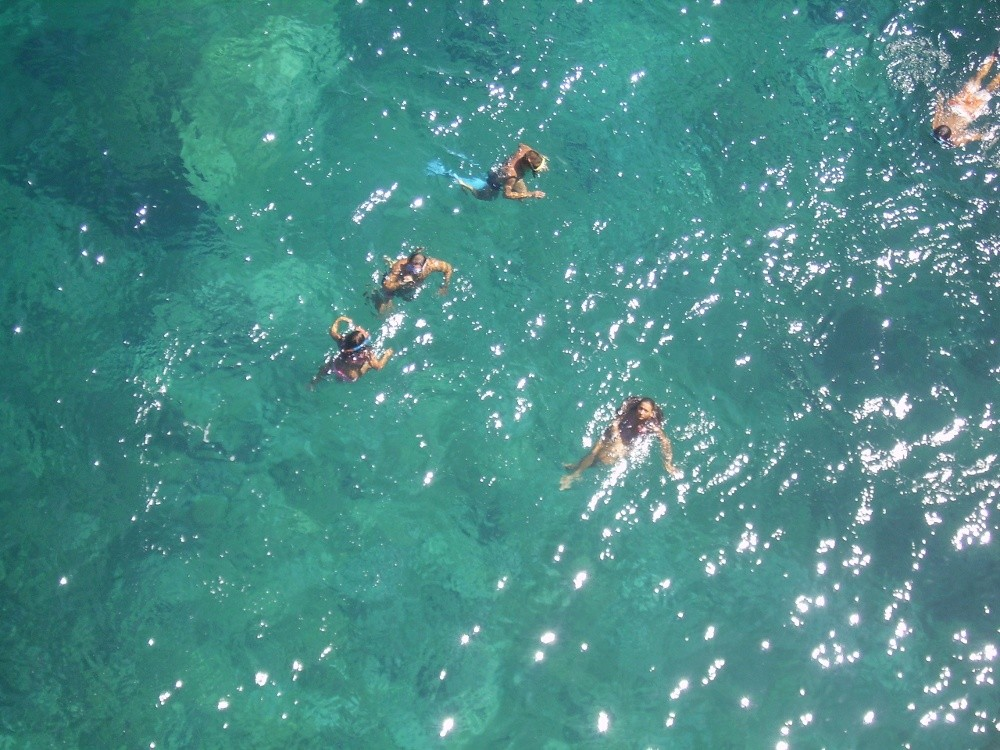people: (556, 393, 681, 495), (928, 47, 1000, 151), (307, 313, 395, 390), (367, 249, 454, 317), (501, 140, 552, 199)
